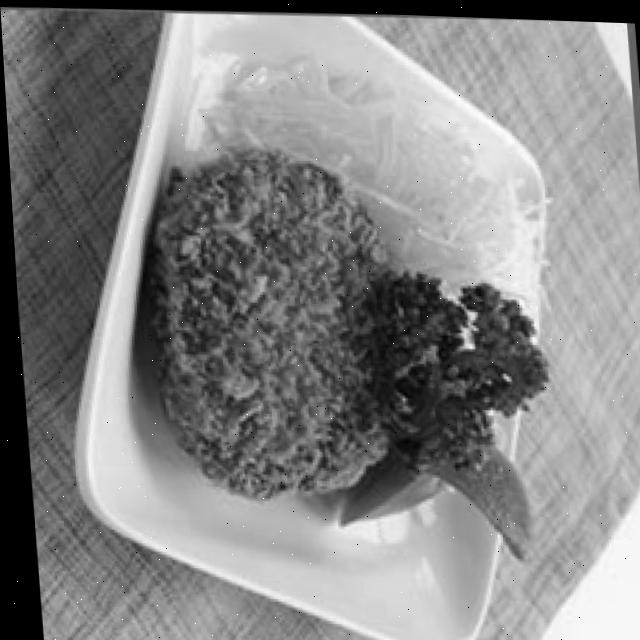炸货点心: (130, 129, 423, 510)
